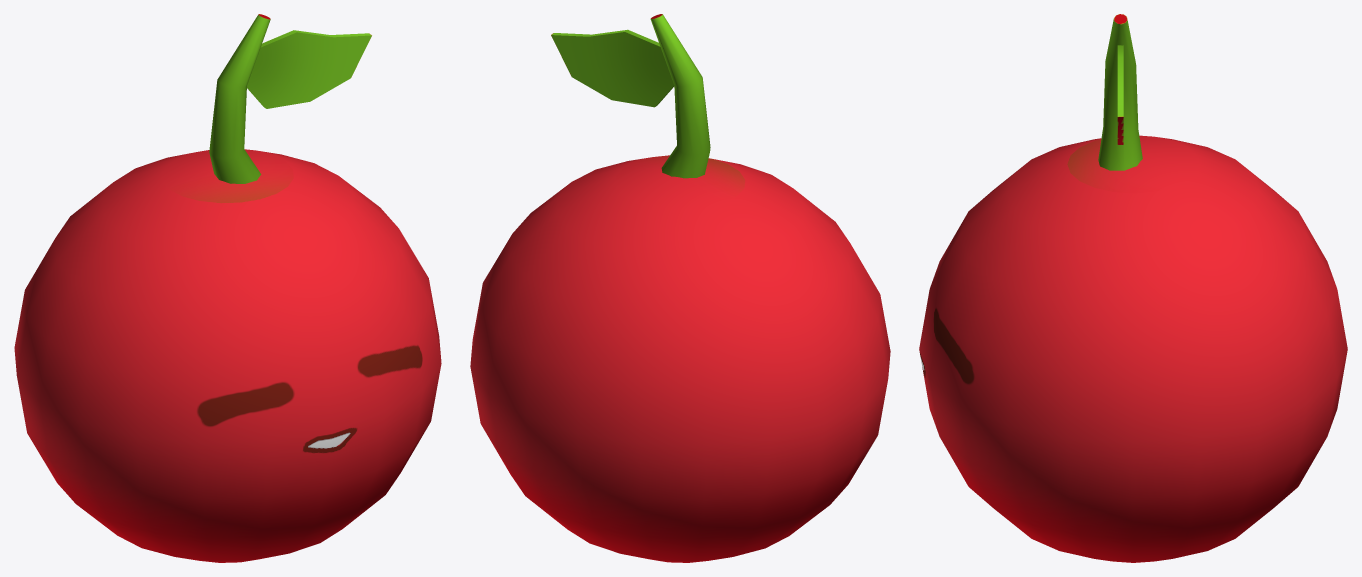
Rendered from Cherry.fbx.
3 views of the same model, side by side, from view 1: azimuth 30°, elevation 25°; view 2: azimuth 150°, elevation 25°; view 3: azimuth 270°, elevation 25° (orthographic). The views are drawn at different scales.
Visible parts, largest first — view 1: Cherry; view 2: Cherry; view 3: Cherry.
Part boxes in pixels (x1,y1,x2,y2): Cherry: [14, 14, 441, 562]; Cherry: [470, 14, 890, 562]; Cherry: [919, 14, 1347, 562].
Bounding box in the file's own units: 4.48 × 6 × 4.3.
